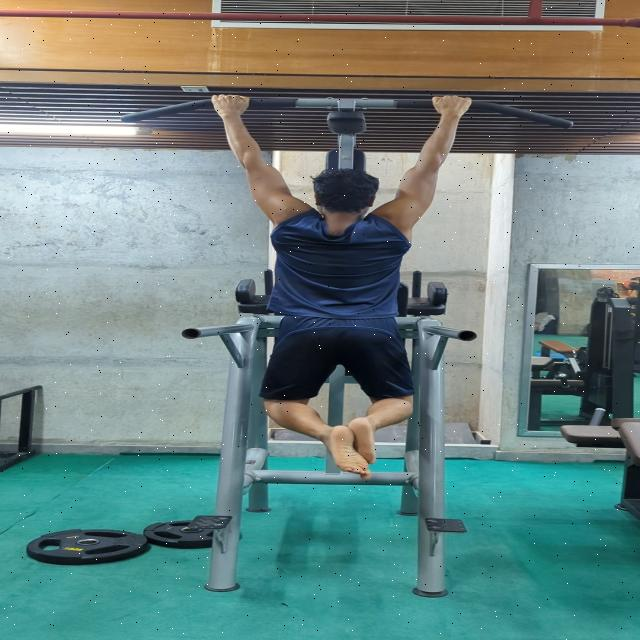Normal_PullUps: (193, 84, 505, 481)
